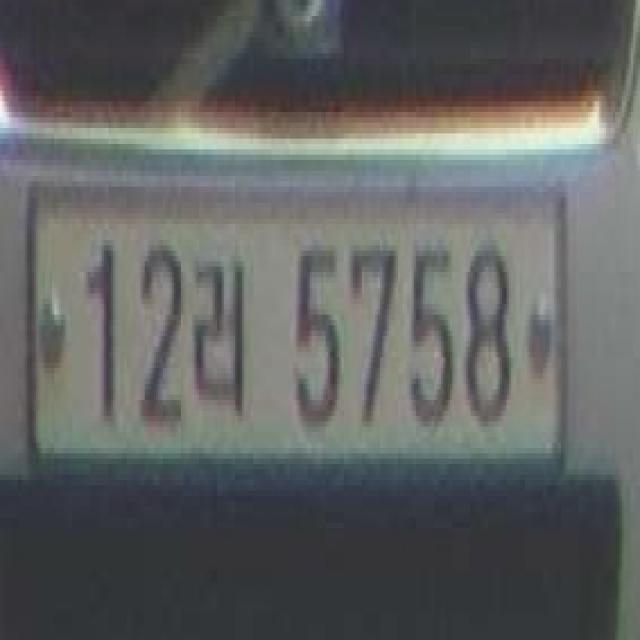1: (72, 224, 124, 432)
2: (134, 240, 186, 443)
5: (287, 230, 348, 453), (404, 240, 454, 448)
7: (344, 240, 400, 453)
8: (461, 240, 518, 464)
leo: (192, 246, 251, 454)
license_plate: (20, 170, 570, 490)
